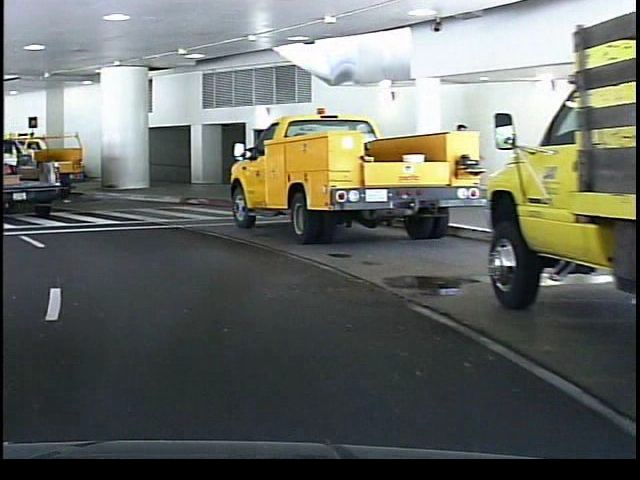person: (445, 115, 476, 214)
